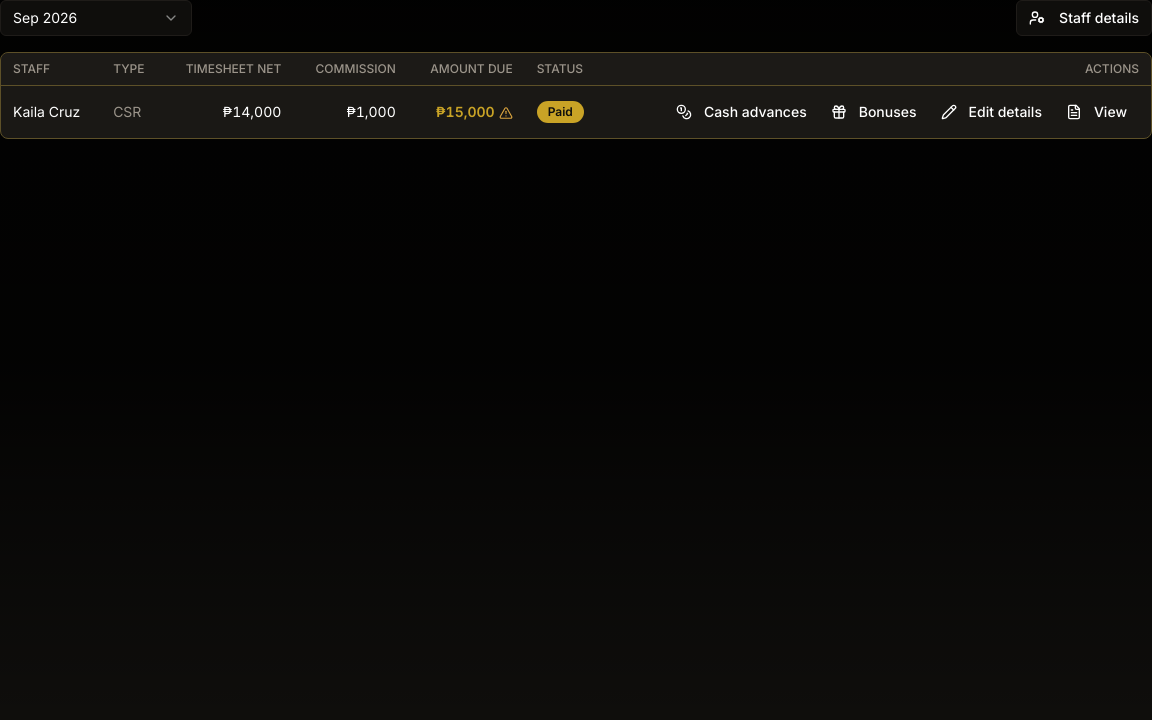
Scenario: Payslips tab — Edit figures › is hidden until the database has the feature
The image size is (1152, 720).
Click the button "View". click: (1096, 112)
box: [1054,94,1139,130]
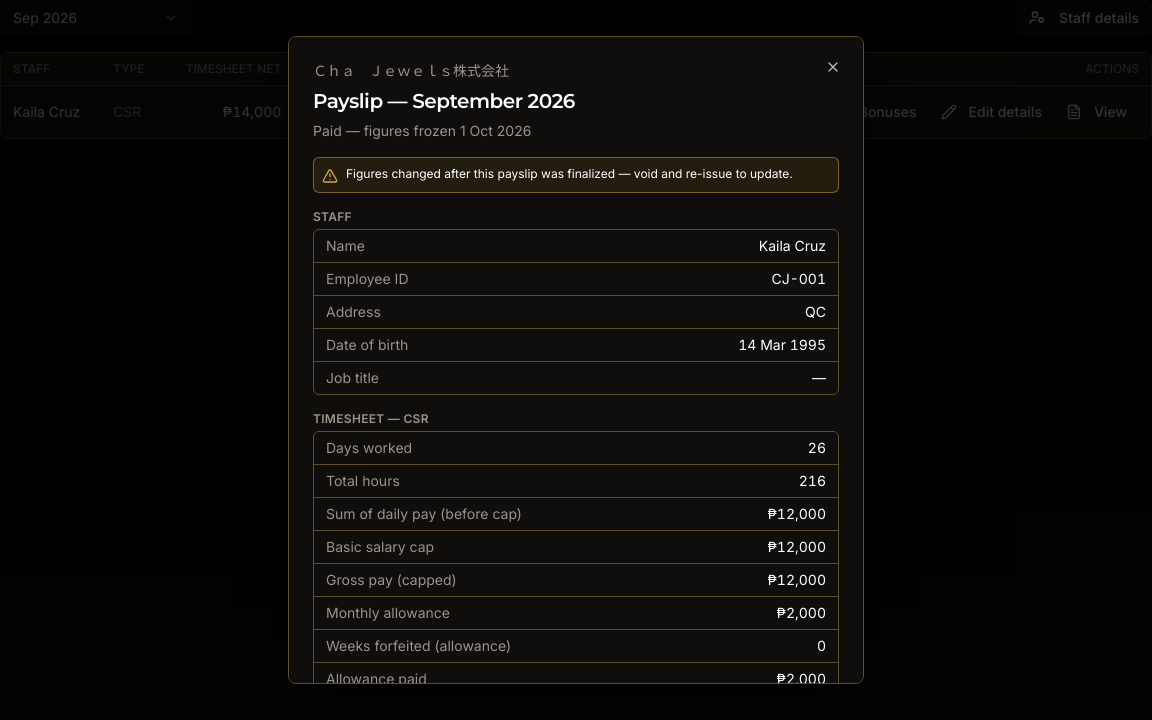
Now the element with test id "payslip-changed" shows "void and re-issue", box [346,166,793,181]
